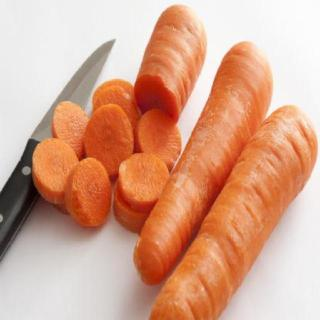carrot: (143, 103, 320, 319), (134, 37, 276, 285), (134, 4, 208, 120)
